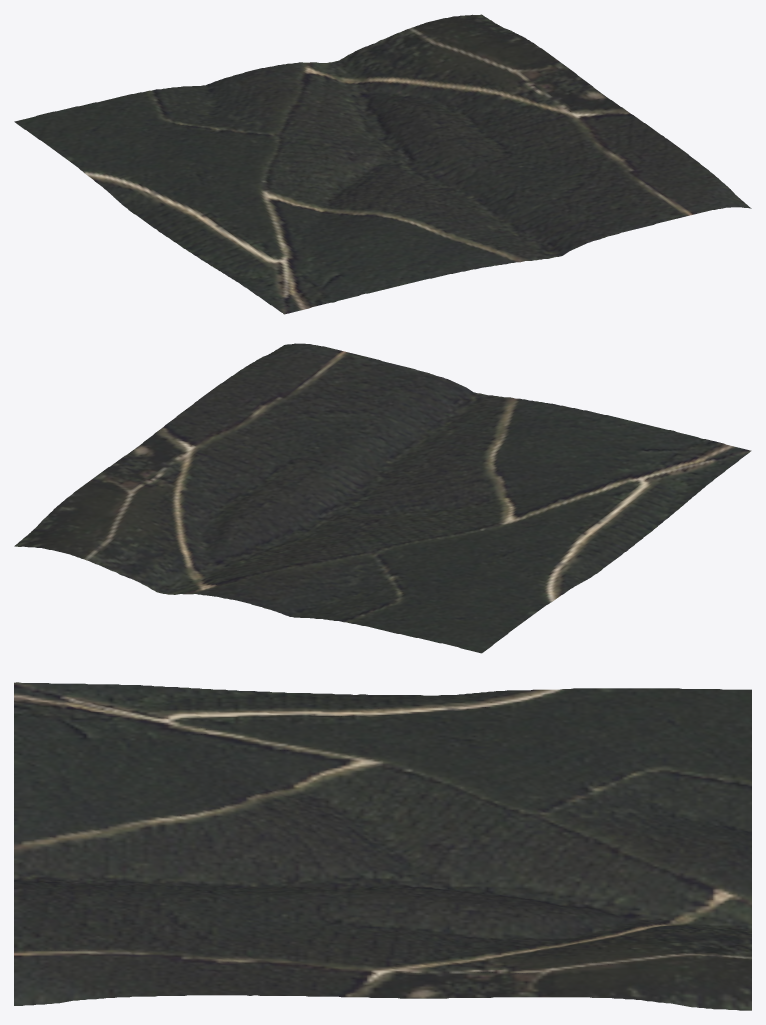
Rendered from tile_0_0.glb.
3 views of the same model, one above another, from view 1: azimuth 30°, elevation 25°; view 2: azimuth 150°, elevation 25°; view 3: azimuth 270°, elevation 25° (orthographic). The views are drawn at different scales.
Visible parts, largest first — view 1: tile_0_0; view 2: tile_0_0; view 3: tile_0_0.
Boxes of the visible parts, box(x1,y1,x2,y2) form: tile_0_0: box(14, 14, 751, 314); tile_0_0: box(14, 343, 751, 653); tile_0_0: box(14, 682, 751, 1010).
Size of the model in its own units: 1000 by 49 by 1000.
1 material, 1 textured.
